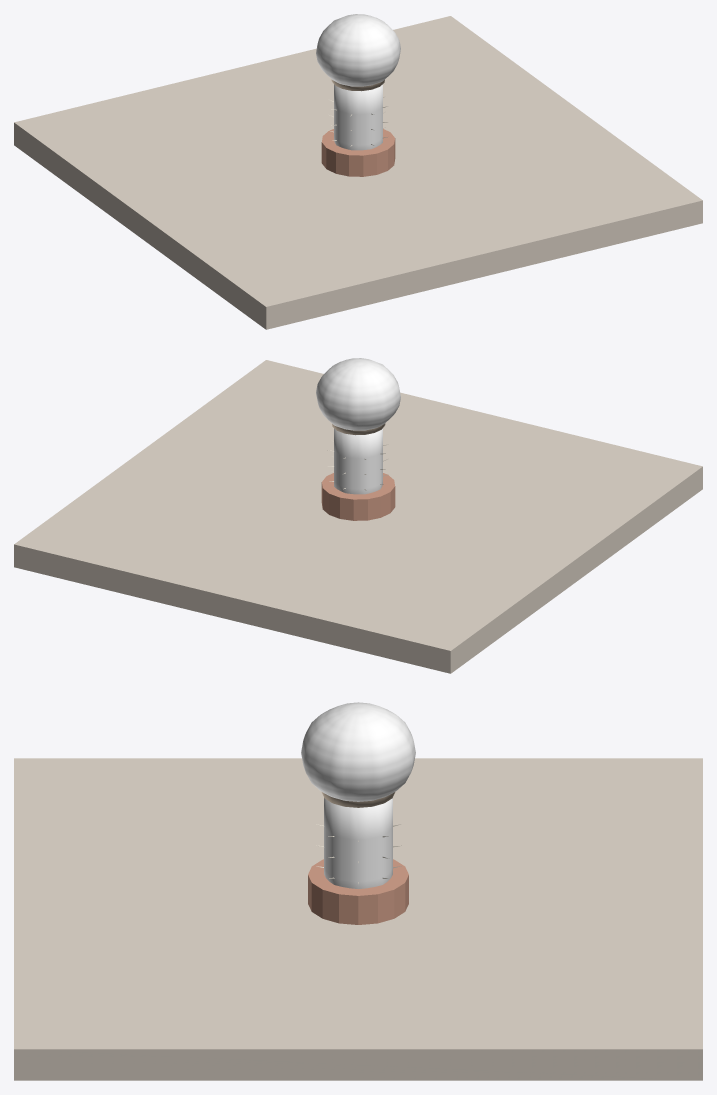
3 renders of one model, top to bottom at view 1: azimuth 30°, elevation 25°; view 2: azimuth 150°, elevation 25°; view 3: azimuth 270°, elevation 25°, orthographic. The views are drawn at different scales.
Visible parts, largest first — view 1: Table, MoonCactus, Pot; view 2: Table, MoonCactus, Pot; view 3: Table, MoonCactus, Pot.
Part boxes in pixels (x1,y1,x2,y2): Table: (14, 16, 702, 329); MoonCactus: (316, 14, 400, 150); Pot: (321, 129, 395, 176); Table: (14, 360, 702, 673); MoonCactus: (316, 358, 400, 494); Pot: (321, 473, 395, 520); Table: (14, 758, 702, 1080); MoonCactus: (301, 702, 415, 888); Pot: (308, 859, 408, 924).
Size of the model in its own units: 3 by 1.09 by 3.
